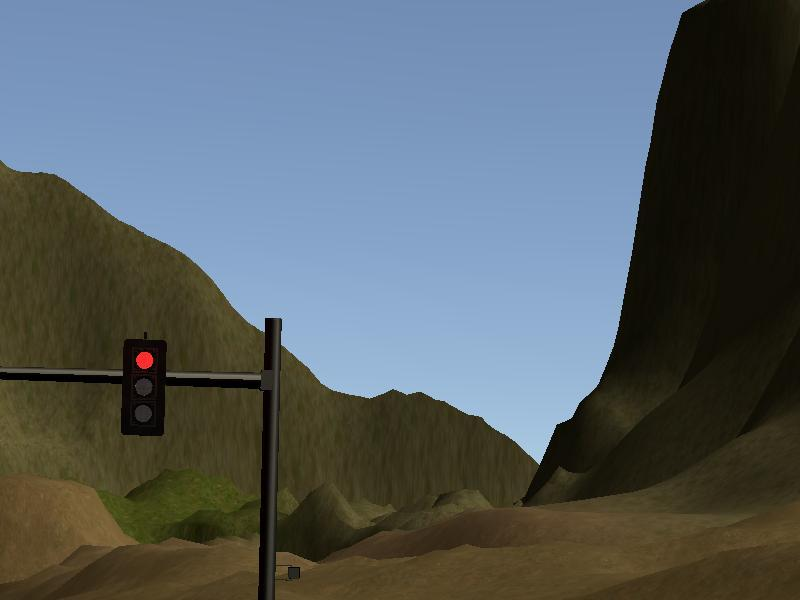Red: (125, 341, 163, 433)
